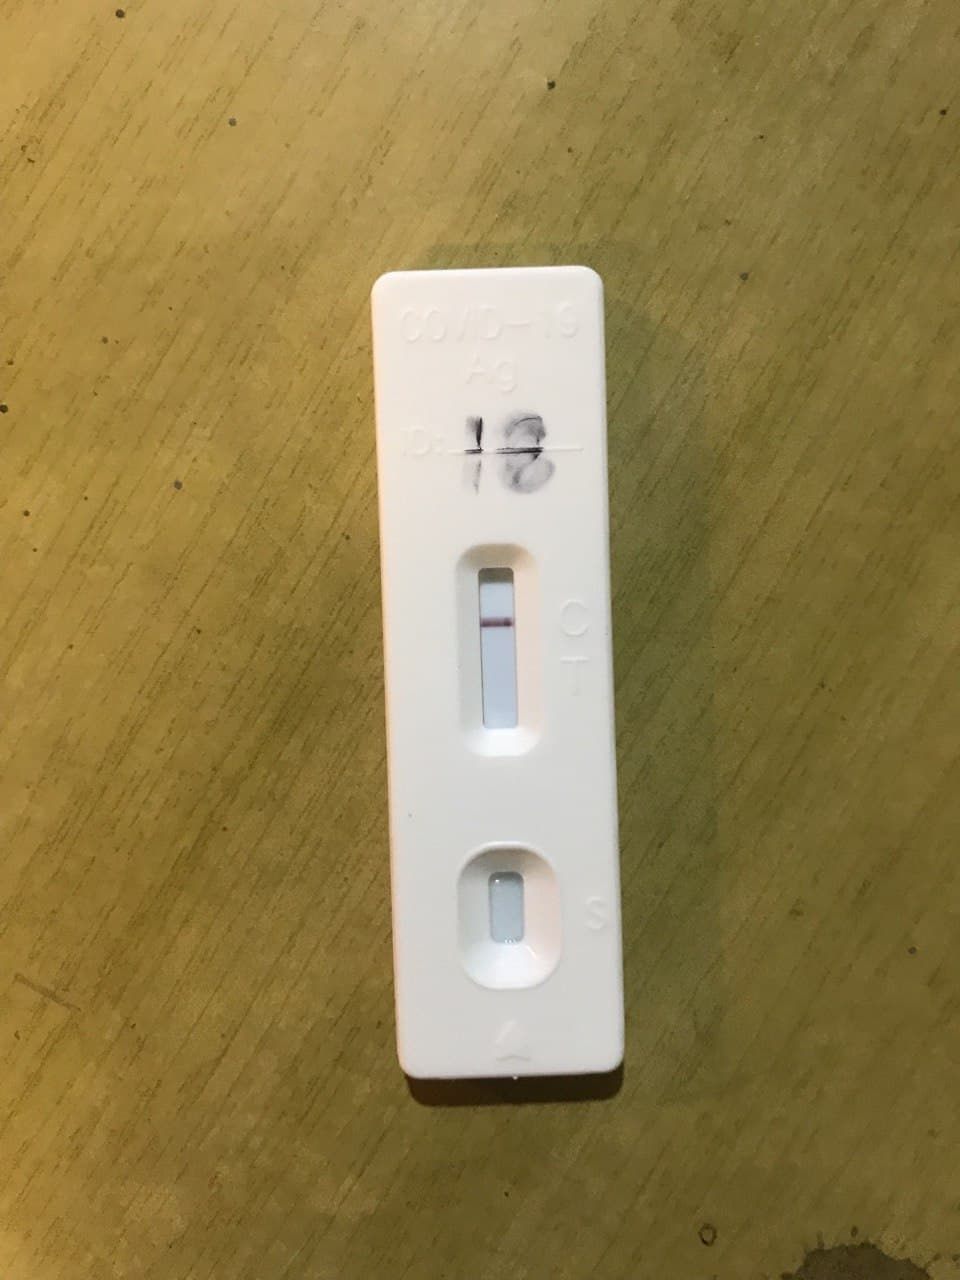rapid_test: (362, 264, 641, 1089)
